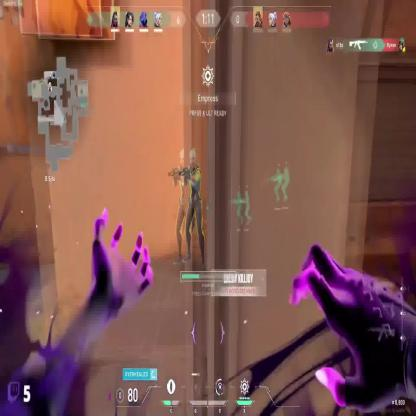enemy: (174, 148, 206, 272)
enemy_head: (188, 149, 197, 169)
